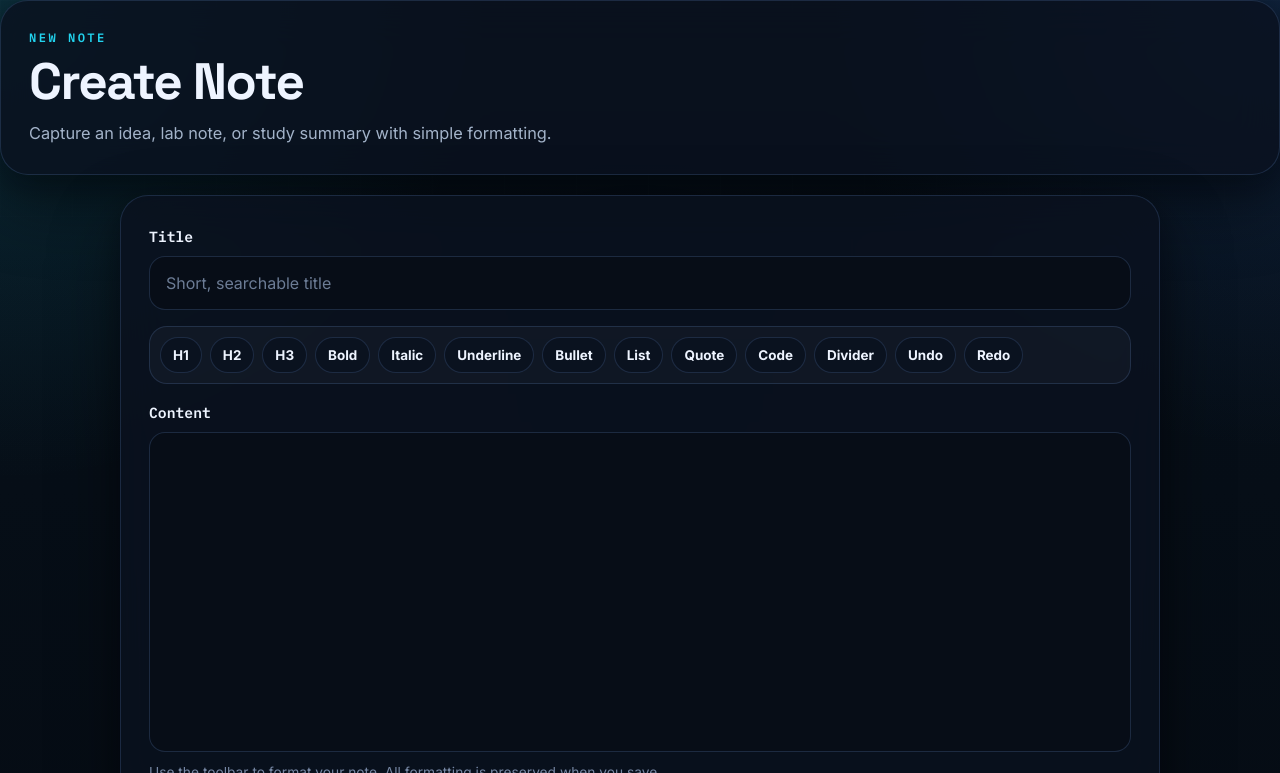
Test: CreateNotePage component › shows a visible error when create fails
This screenshot has width=1280, height=773.
Type "Failed note" into the field labelled "Title" at (640, 283), box [149,256,1131,310]
(page scrolled)
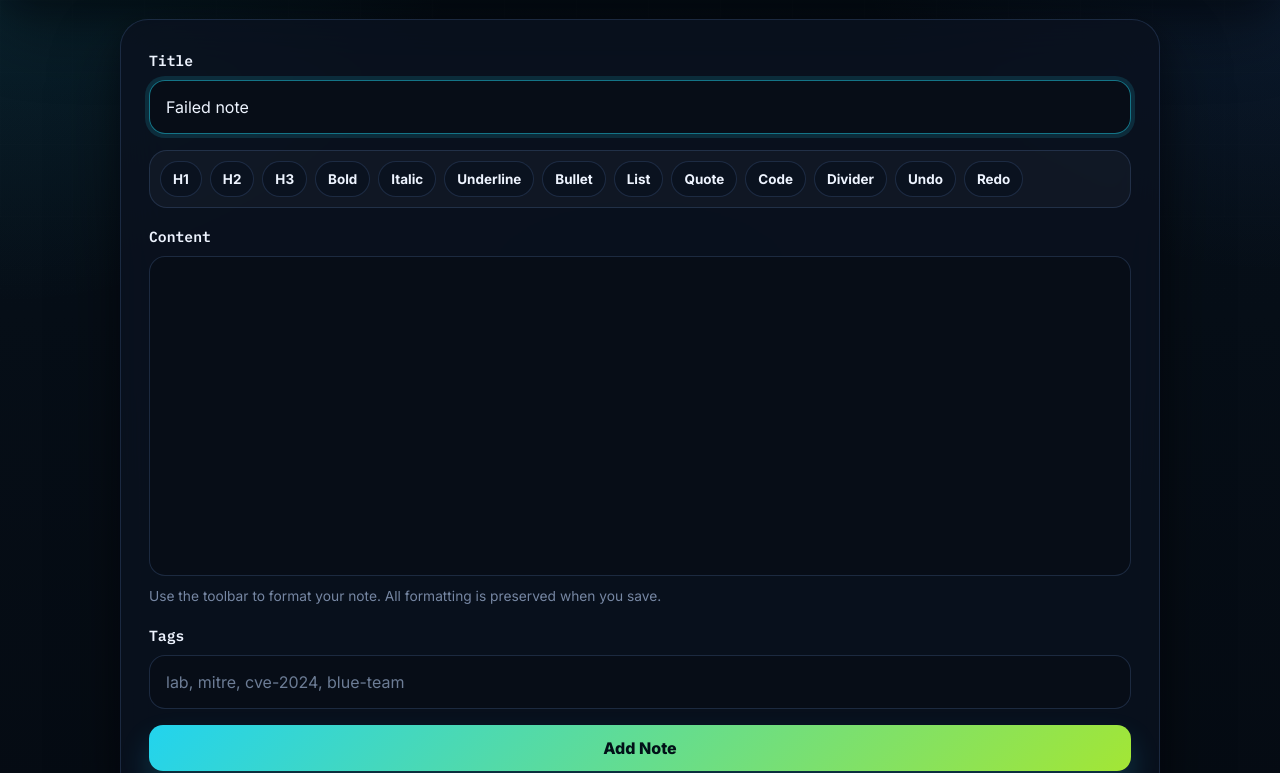
Click the button "Add Note" at (640, 748), box [149,725,1131,771]
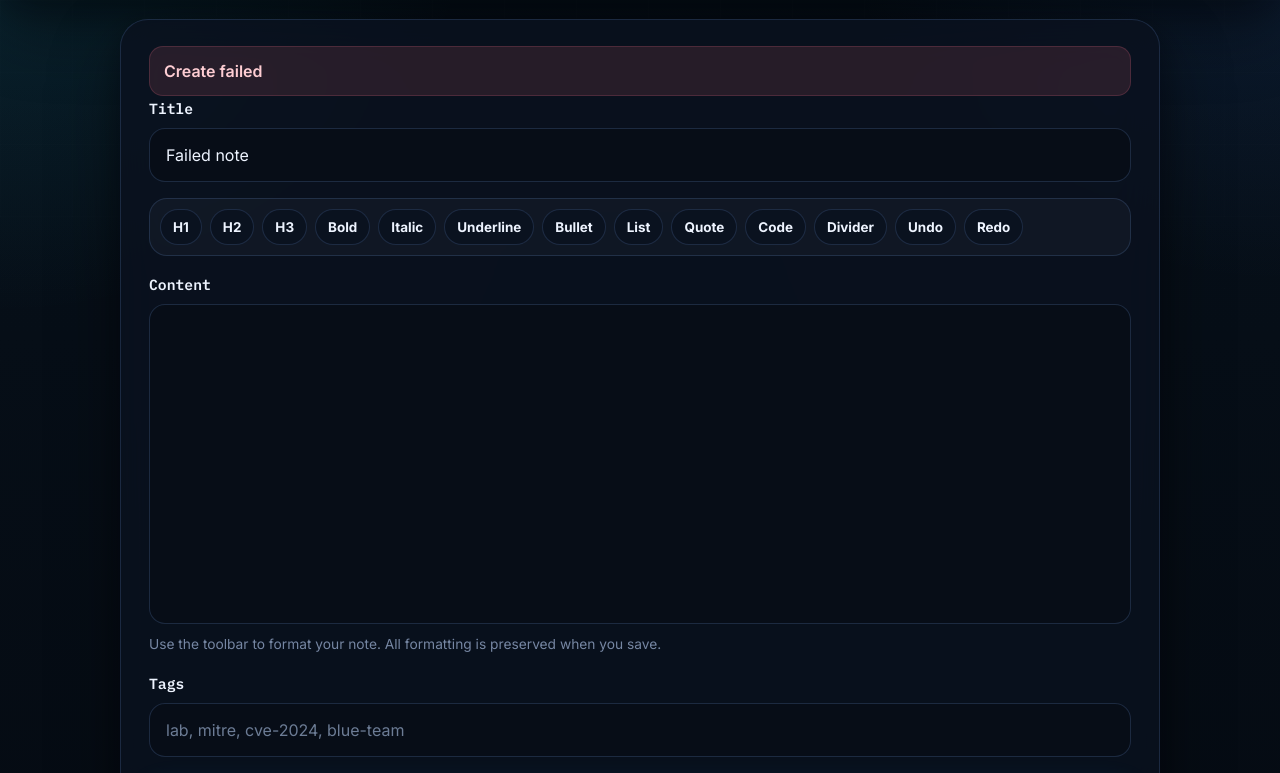
Expected: the message reads "Create failed", [164,61,262,81]
